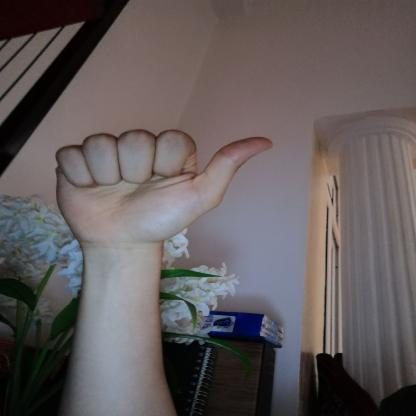DAD: (40, 119, 290, 258)
